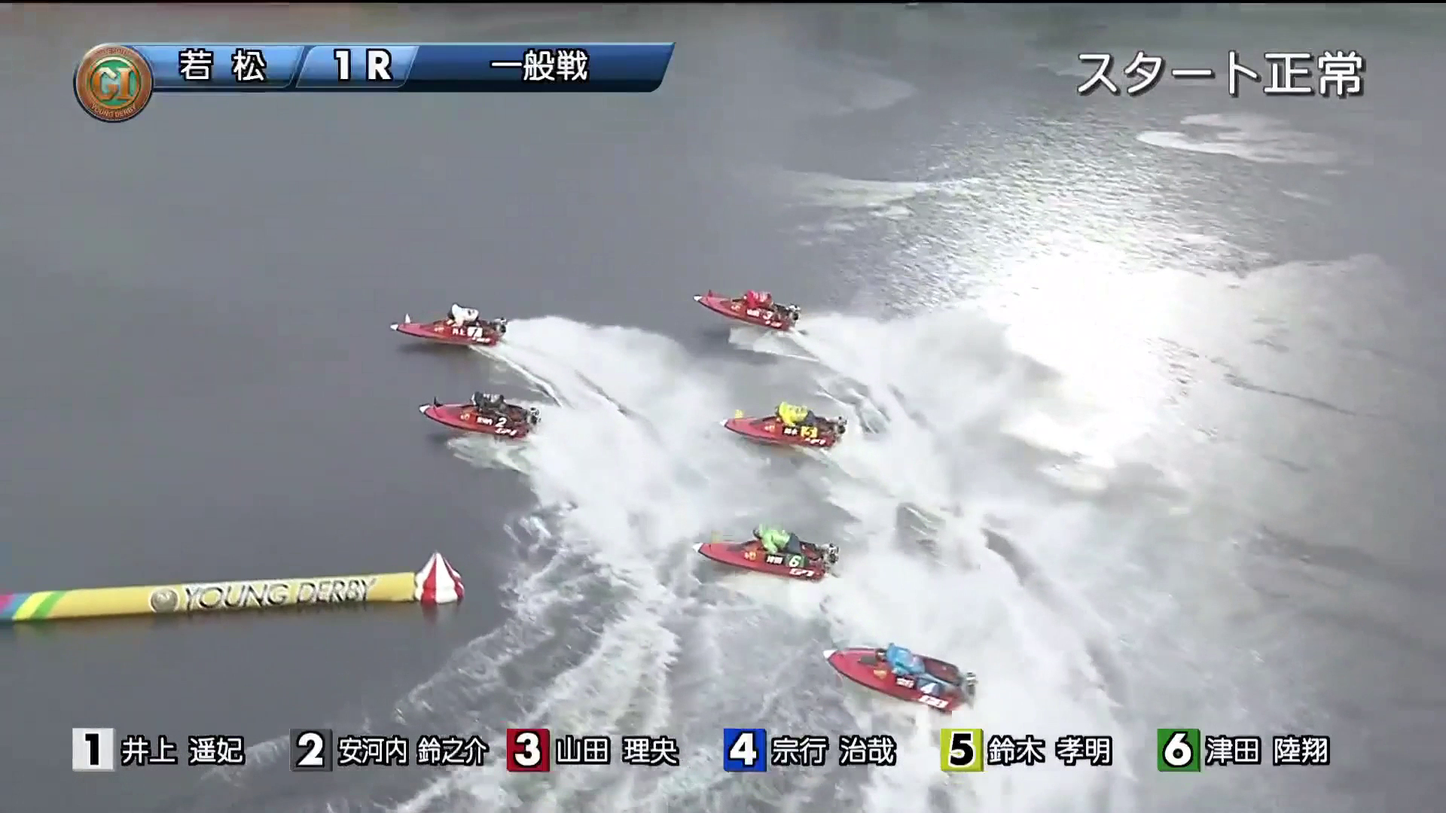１号艇: (433, 285, 504, 338)
２号艇: (425, 370, 554, 431)
３号艇: (723, 271, 821, 321)
４号艇: (725, 511, 859, 576)
５号艇: (850, 653, 974, 708)
６号艇: (741, 357, 841, 437)
